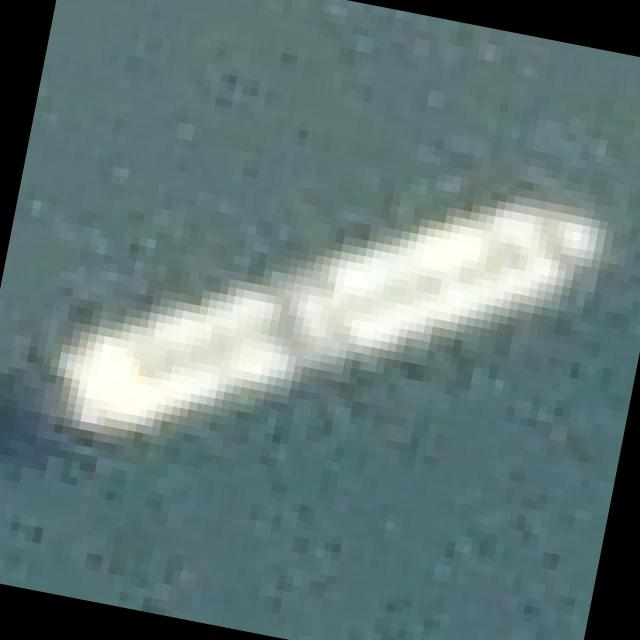ship: (0, 73, 632, 558)
